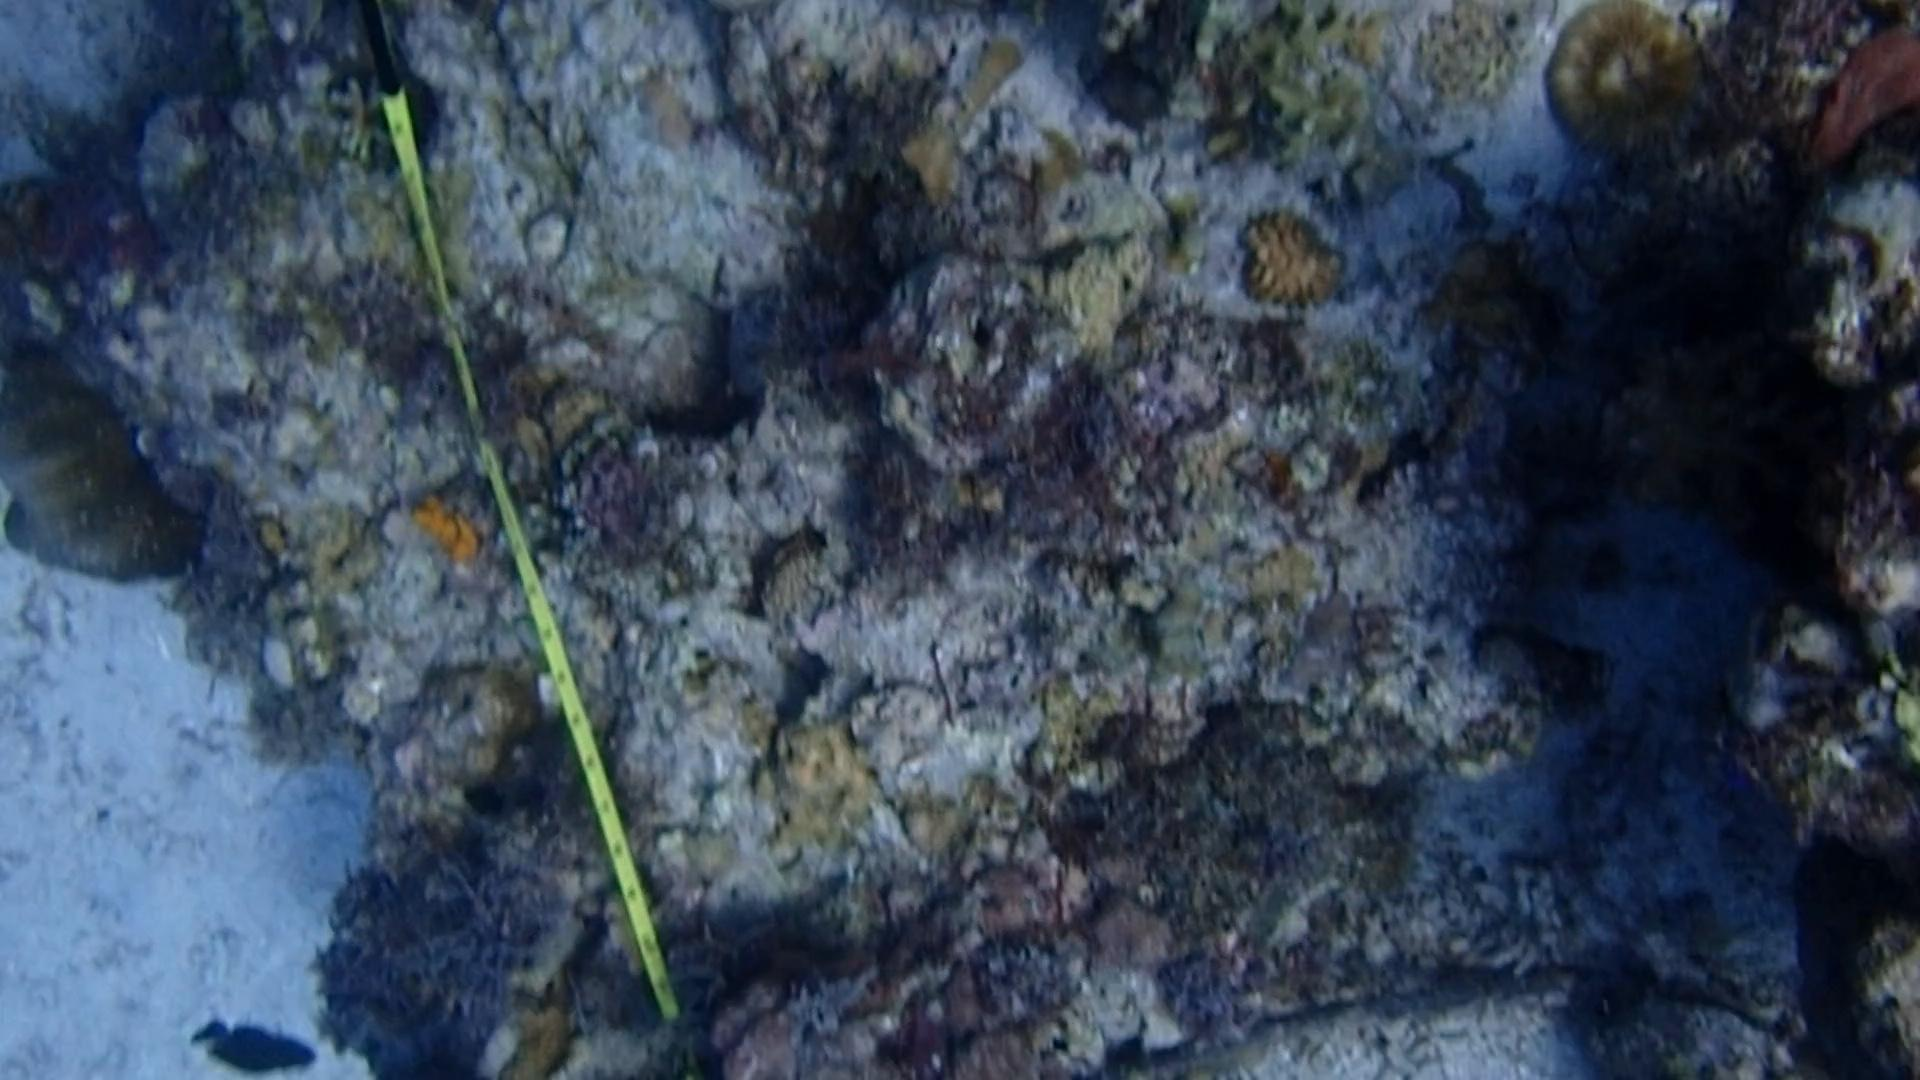Dark Fish: (174, 1004, 330, 1080)
